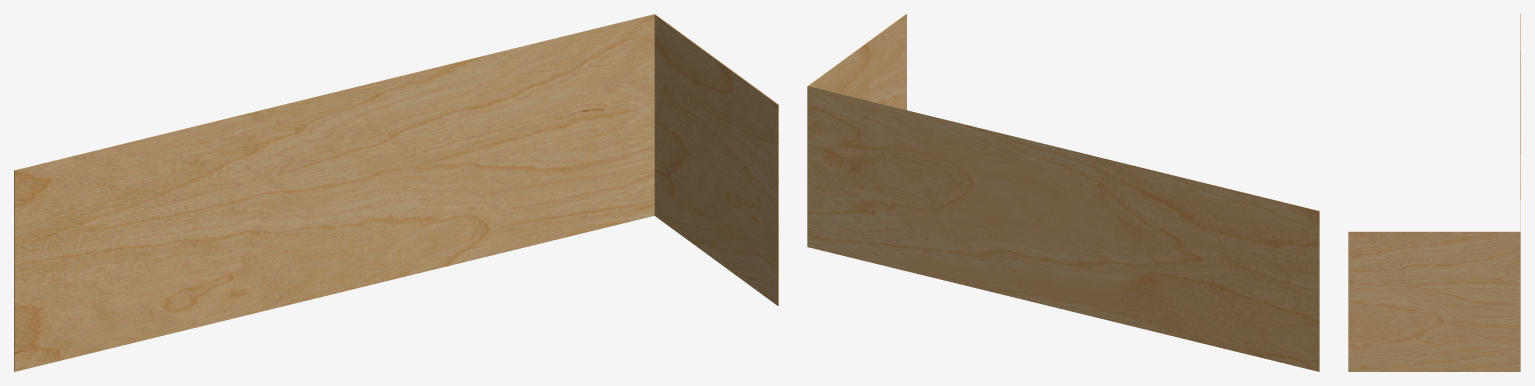
Rendered from kitchenbackwall.gltf.
3 views of the same model, side by side, from view 1: azimuth 30°, elevation 25°; view 2: azimuth 150°, elevation 25°; view 3: azimuth 270°, elevation 25° (orthographic). The views are drawn at different scales.
Parts seen in each view (by area): view 1: kitchenbackwall; view 2: kitchenbackwall; view 3: kitchenbackwall.
Boxes of the visible parts, x1,y1,x2,y2 form: kitchenbackwall: [14, 14, 778, 371]; kitchenbackwall: [807, 14, 1319, 371]; kitchenbackwall: [1348, 14, 1520, 371].
Bounding box in the file's own units: 1.91 × 0.573 × 0.638.
1 material, 1 textured.
